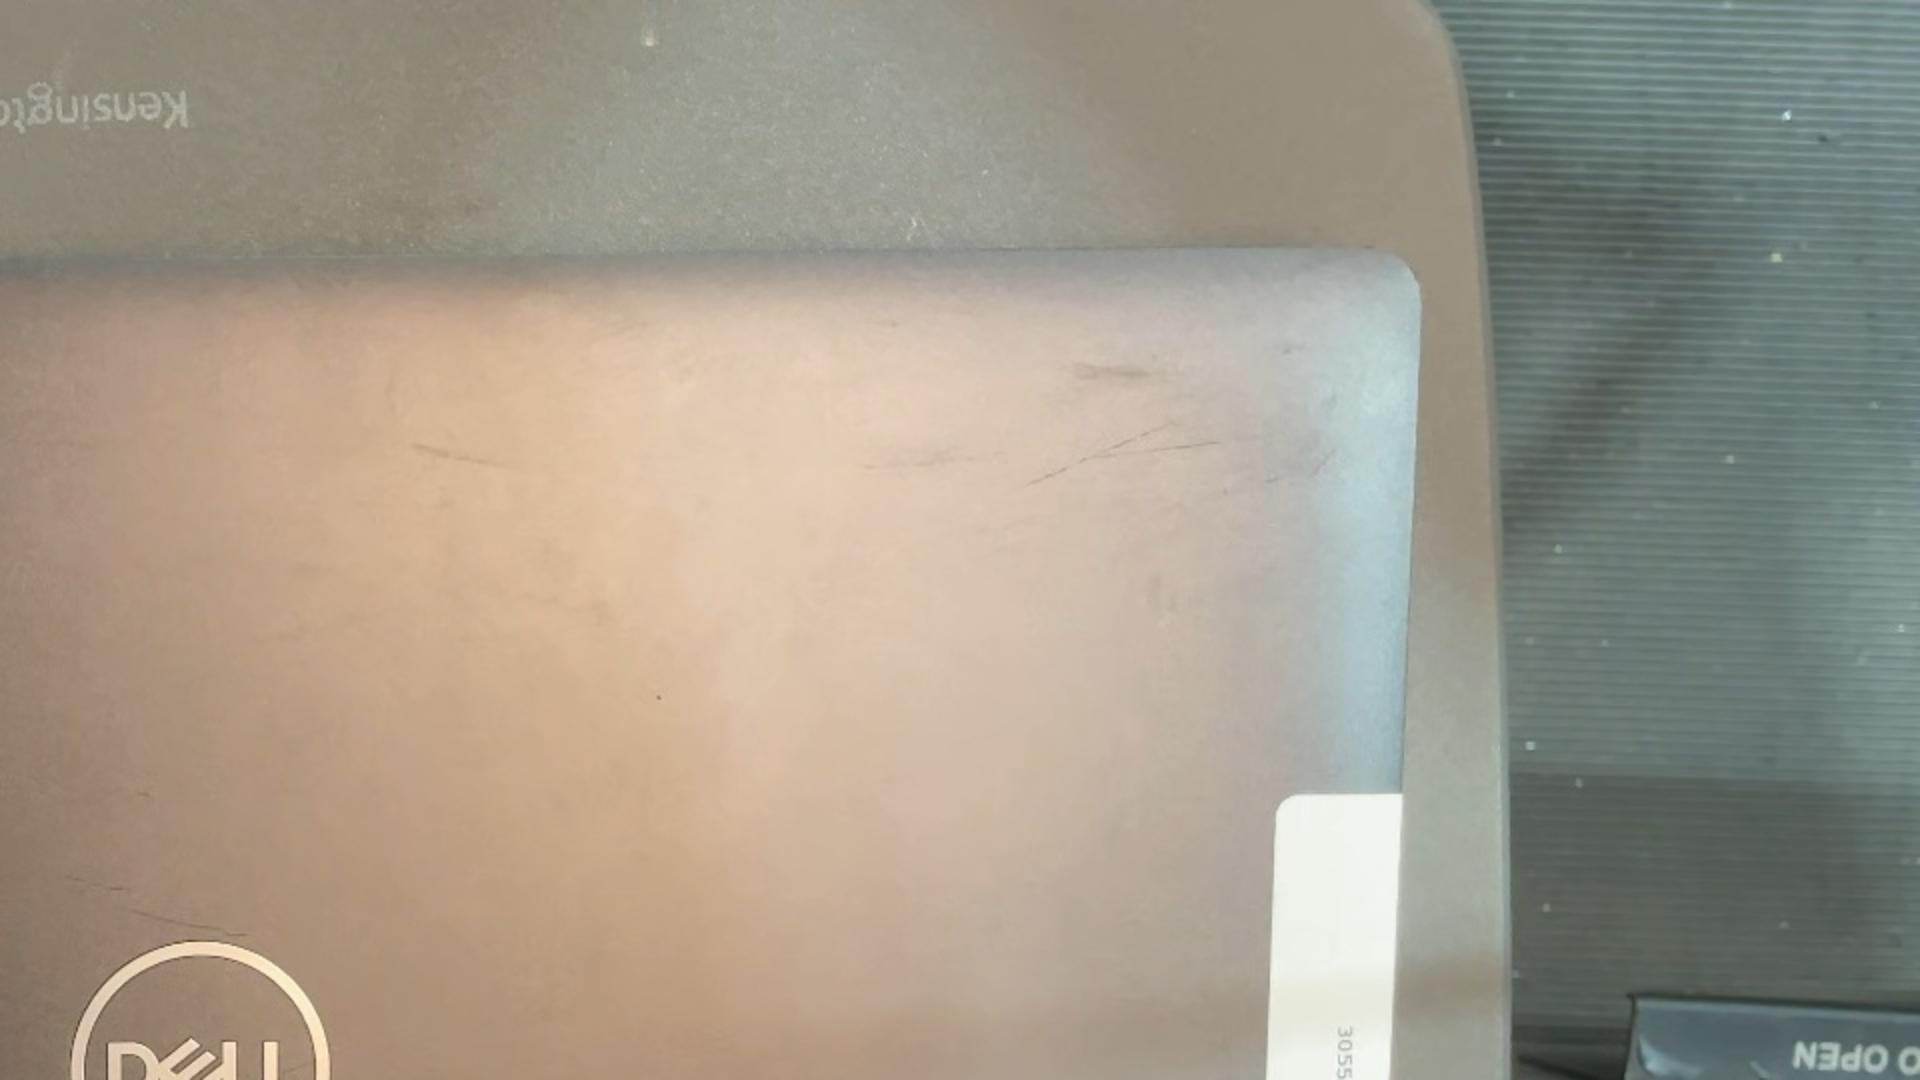scratches: (1025, 419, 1170, 488), (121, 905, 252, 939), (1102, 440, 1228, 459), (61, 873, 131, 891)
